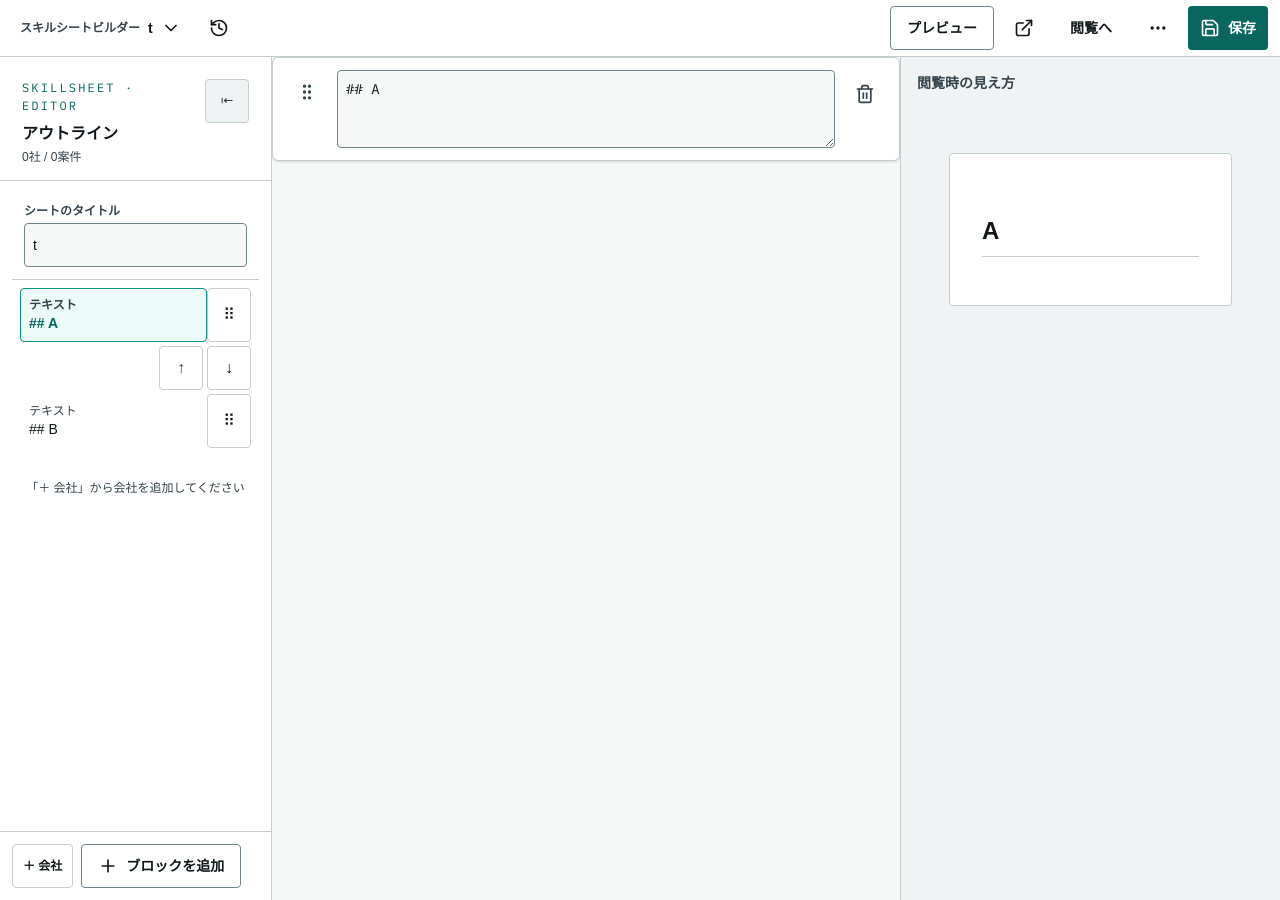
Test case: BuilderClient › 削除ボタンでブロックが減る
Click the button named "ブロックを削除" at (865,94), box [843, 72, 887, 116]
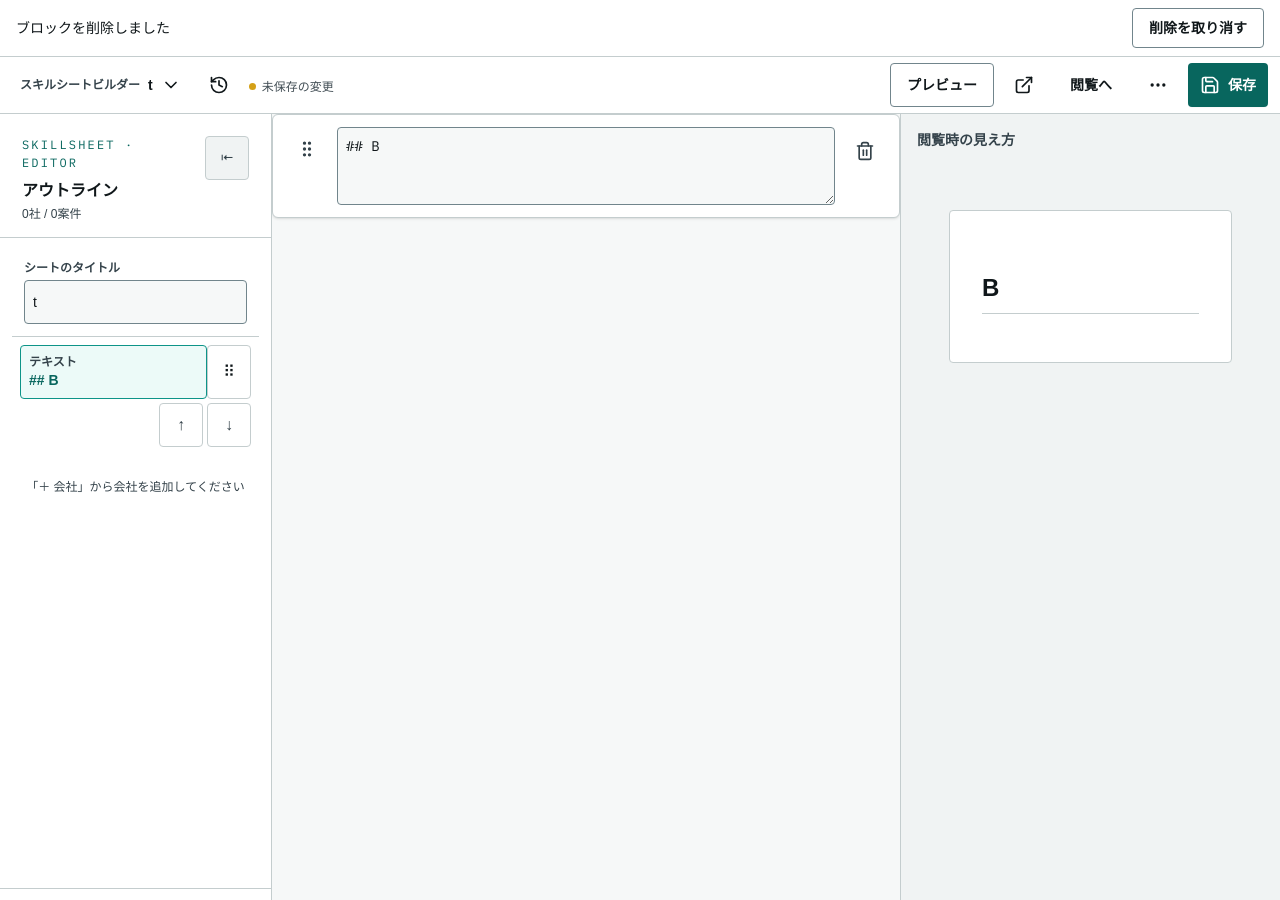
Expected: the number of text boxes with placeholder "Markdown を入力..." is 1, [337, 127, 835, 205]
Expected: the text box with placeholder "Markdown を入力..." holds "## B", [337, 127, 835, 205]
